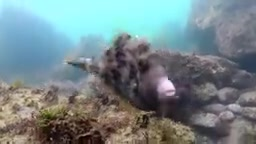kawahagi: (77, 32, 177, 108)
